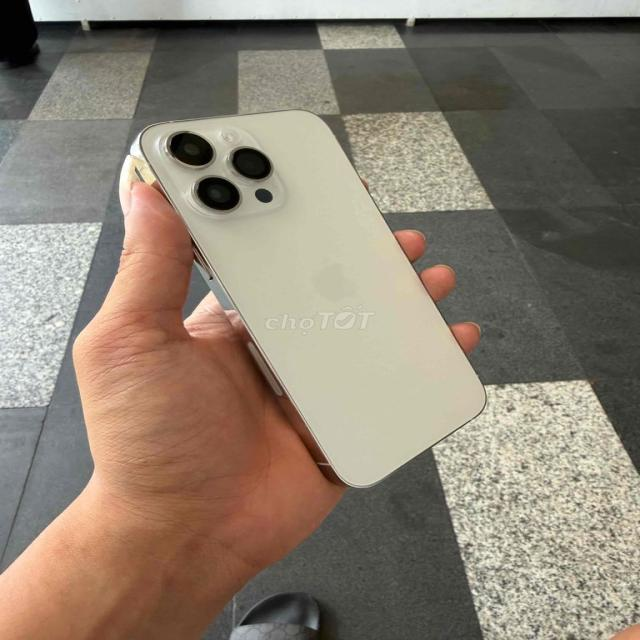gen_14: (131, 101, 496, 497)
